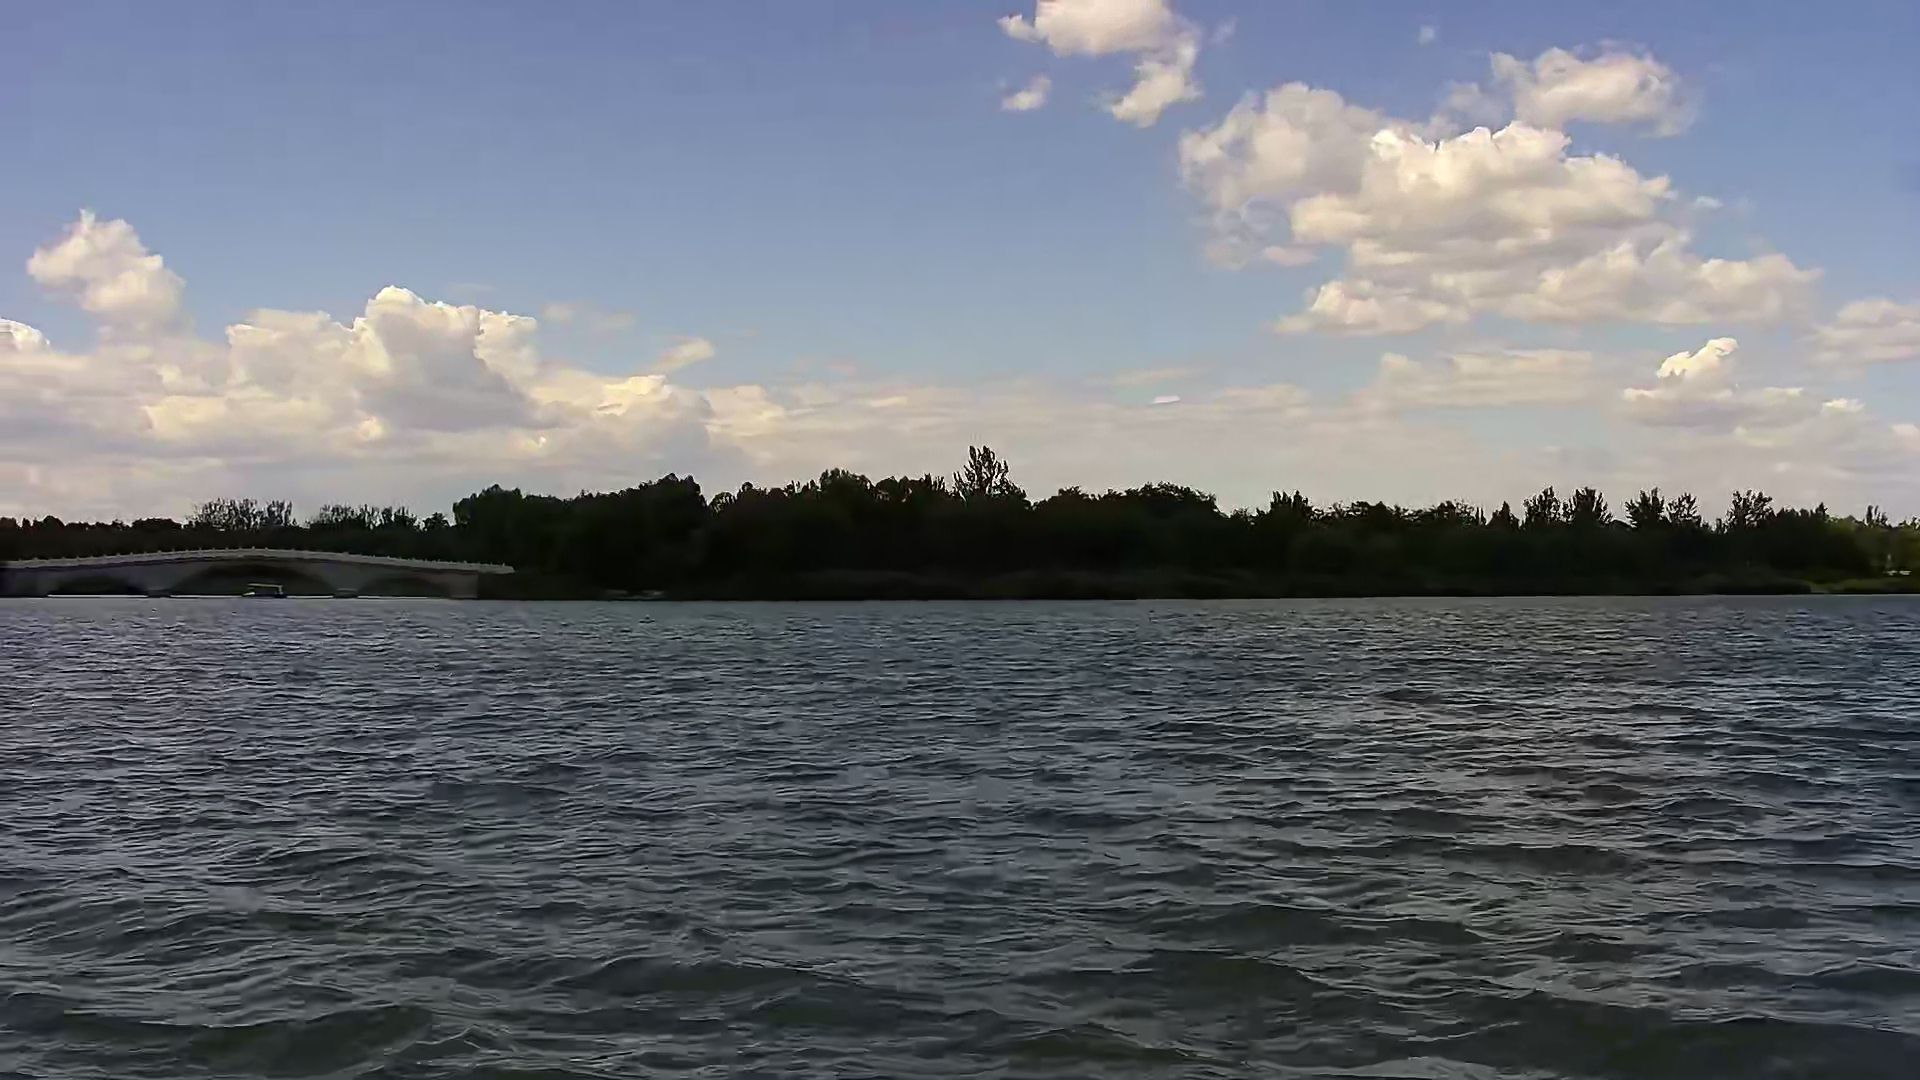boat: (243, 579, 291, 601)
bridge: (3, 541, 514, 597)
